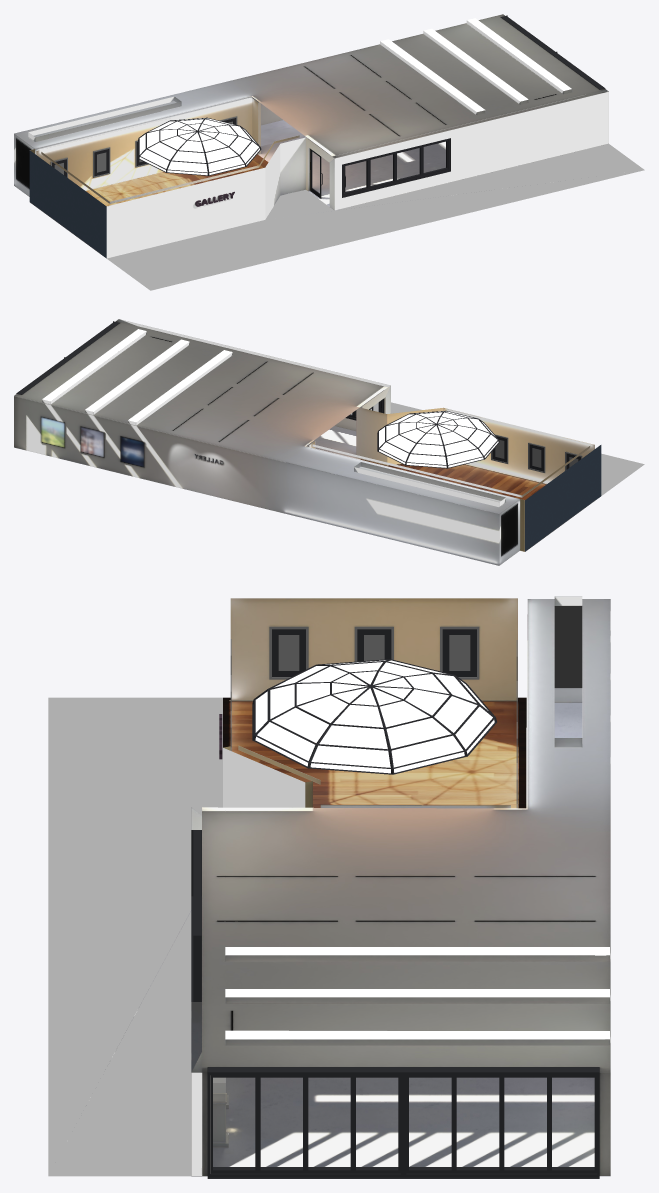
Rendered from art-gallery14.glb.
The picture shows the model from 3 angles, top to bottom: view 1: azimuth 30°, elevation 25°; view 2: azimuth 150°, elevation 25°; view 3: azimuth 270°, elevation 25°; orthographic projection. The views are drawn at different scales.
Parts seen in each view (by area): view 1: ParedesPrincipais, Paredes, Chao_entrada.001, Sphere.002, Chao_entrada, LuzesEmission, Metais, Chao_madeira, Todos os quadros; view 2: ParedesPrincipais, Paredes, Sphere.002, LuzesEmission, Chao_madeira, Chao_entrada.001, Todos os quadros, Chao_entrada, Metais; view 3: ParedesPrincipais, Chao_entrada.001, Chao_entrada, Paredes, Sphere.002, Metais, Chao_madeira, LuzesEmission, Todos os quadros.
Part boxes in pixels (box(x1,y1,x2,y2)): ParedesPrincipais: box(14, 14, 608, 210); Paredes: box(29, 98, 334, 258); Chao_entrada.001: box(107, 144, 644, 290); Sphere.002: box(138, 117, 261, 175); Chao_entrada: box(258, 120, 445, 206); LuzesEmission: box(380, 18, 571, 111); Metais: box(310, 15, 605, 198); Chao_madeira: box(86, 154, 268, 206); Todos os quadros: box(50, 116, 237, 177); ParedesPrincipais: box(14, 319, 524, 565); Paredes: box(309, 385, 601, 551); Sphere.002: box(377, 410, 499, 468); LuzesEmission: box(42, 329, 232, 422); Chao_madeira: box(360, 459, 546, 499); Chao_entrada.001: box(350, 402, 644, 495); Todos os quadros: box(491, 434, 582, 472); Chao_entrada: box(312, 426, 360, 459); Metais: box(16, 321, 384, 439); ParedesPrincipais: box(191, 596, 610, 1175); Chao_entrada.001: box(48, 697, 222, 1176); Chao_entrada: box(191, 702, 610, 1176); Paredes: box(223, 598, 517, 808); Sphere.002: box(252, 659, 496, 774); Metais: box(191, 830, 599, 1178); Chao_madeira: box(223, 697, 526, 808); LuzesEmission: box(225, 947, 609, 1039); Todos os quadros: box(230, 606, 582, 808).
Size of what is drawn, in the model's own units: 62.24 by 8.29 by 30.8.
Materials: 20 (8 with a texture image).
